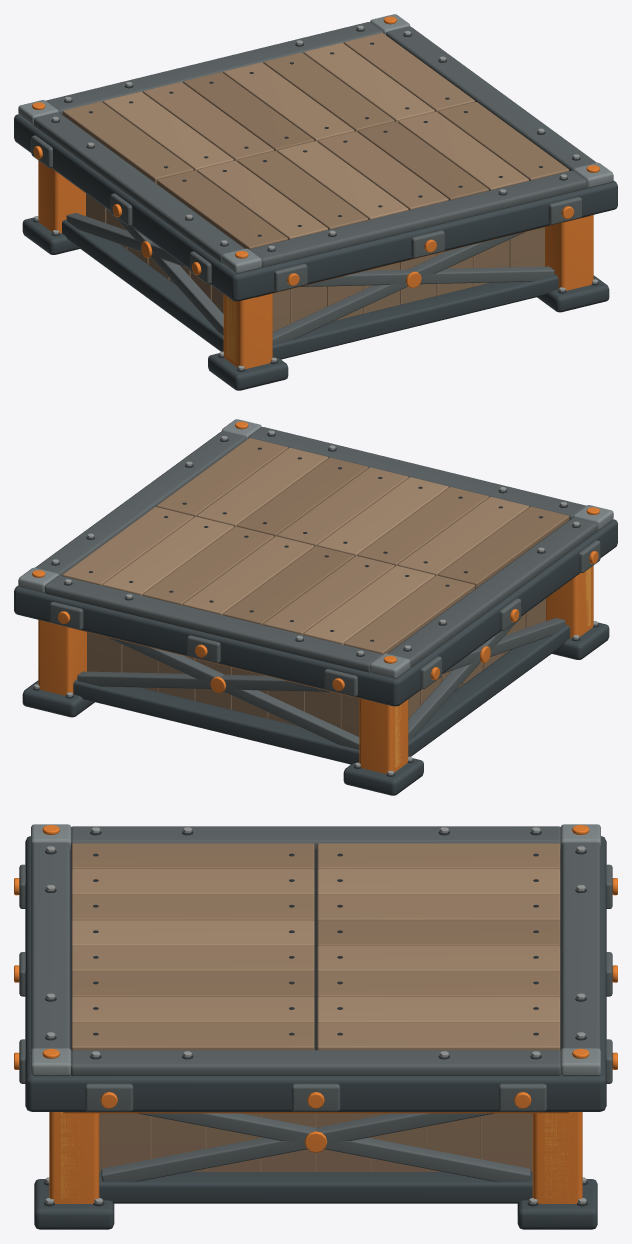
File: wsc-module-009-mover-station-platform.glb
3 renders of one model, top to bottom at view 1: azimuth 30°, elevation 25°; view 2: azimuth 150°, elevation 25°; view 3: azimuth 270°, elevation 25°, orthographic. The views are drawn at different scales.
Visible parts, largest first — view 1: wsc-module-009-mover-station-platform; view 2: wsc-module-009-mover-station-platform; view 3: wsc-module-009-mover-station-platform.
Part boxes in pixels (left/top/right/bottom): wsc-module-009-mover-station-platform: left=14, top=14, right=617, bottom=390; wsc-module-009-mover-station-platform: left=14, top=419, right=617, bottom=795; wsc-module-009-mover-station-platform: left=14, top=824, right=617, bottom=1229.
Size of the model in its own units: 3.62 by 1.14 by 3.62.
